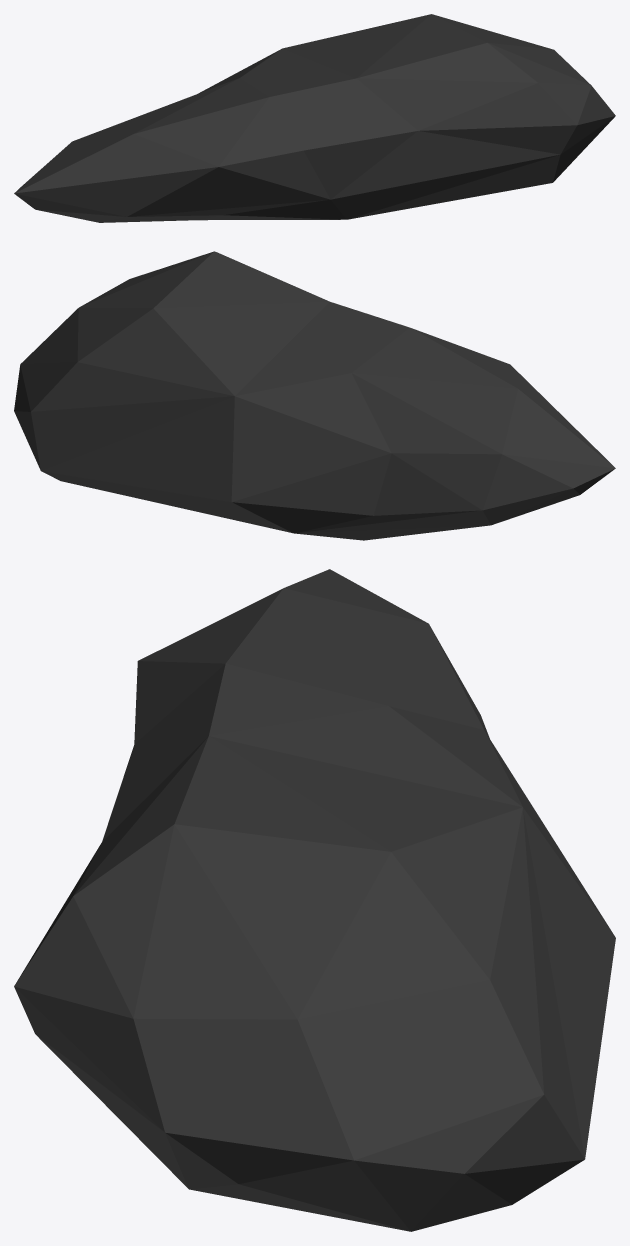
File: pedra3.fbx
The picture shows the model from 3 angles, top to bottom: view 1: azimuth 30°, elevation 25°; view 2: azimuth 150°, elevation 25°; view 3: azimuth 270°, elevation 25°; orthographic projection. The views are drawn at different scales.
Visible parts, largest first — view 1: pedra3; view 2: pedra3; view 3: pedra3.
Boxes of the visible parts, <box> form: pedra3: <box>14,14,615,222</box>; pedra3: <box>14,251,615,540</box>; pedra3: <box>14,569,615,1231</box>.
Bounding box in the file's own units: 331 × 100 × 159.
